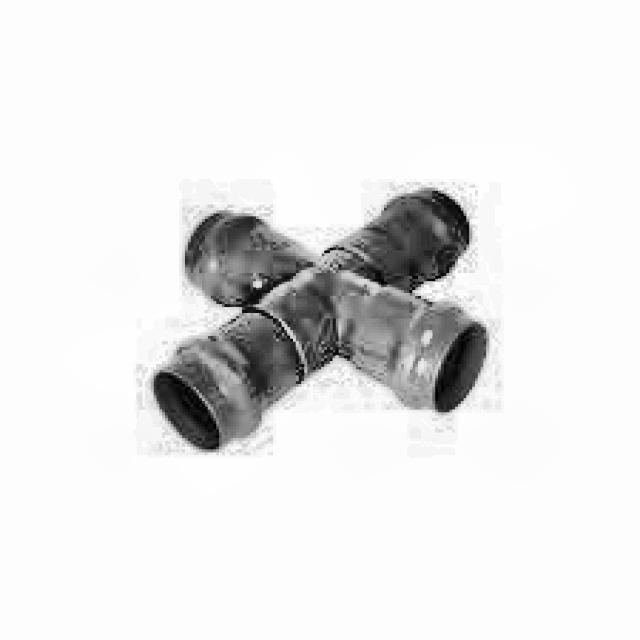EQUALCROSS: (151, 188, 492, 455)
